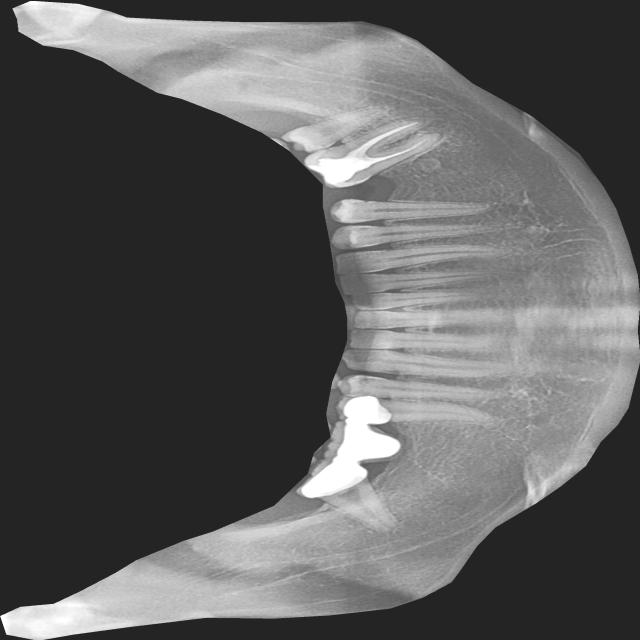mandibula: (0, 0, 640, 640)
